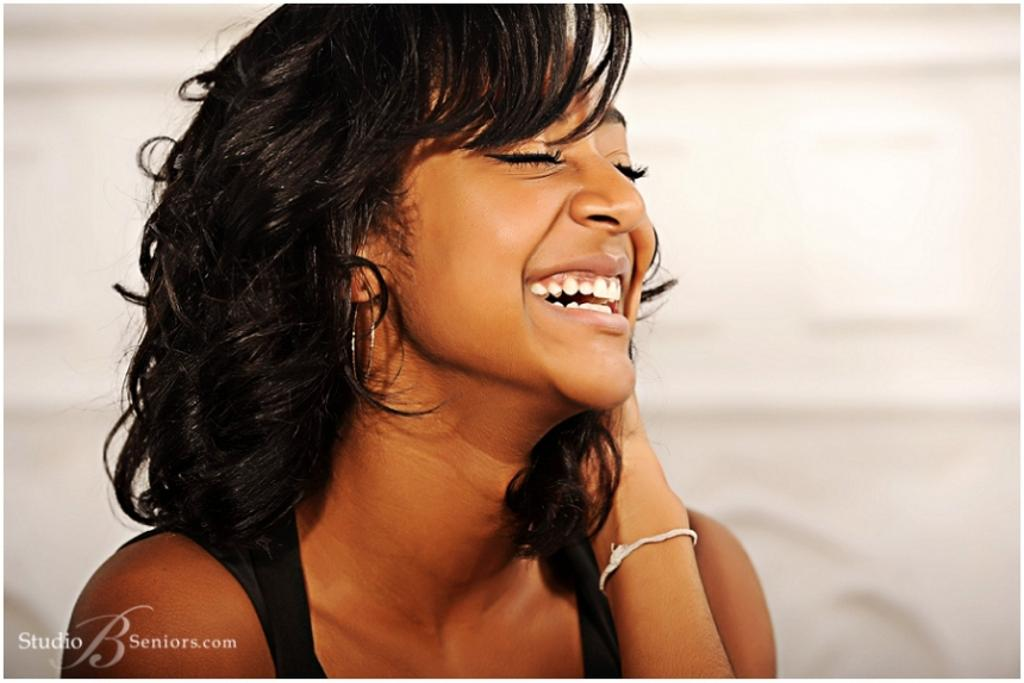face: (390, 16, 656, 404)
